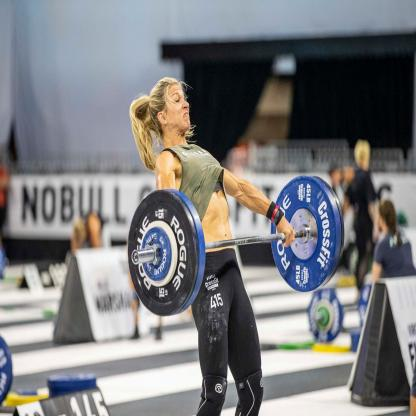barbell: (128, 190, 199, 319), (272, 176, 339, 293)
